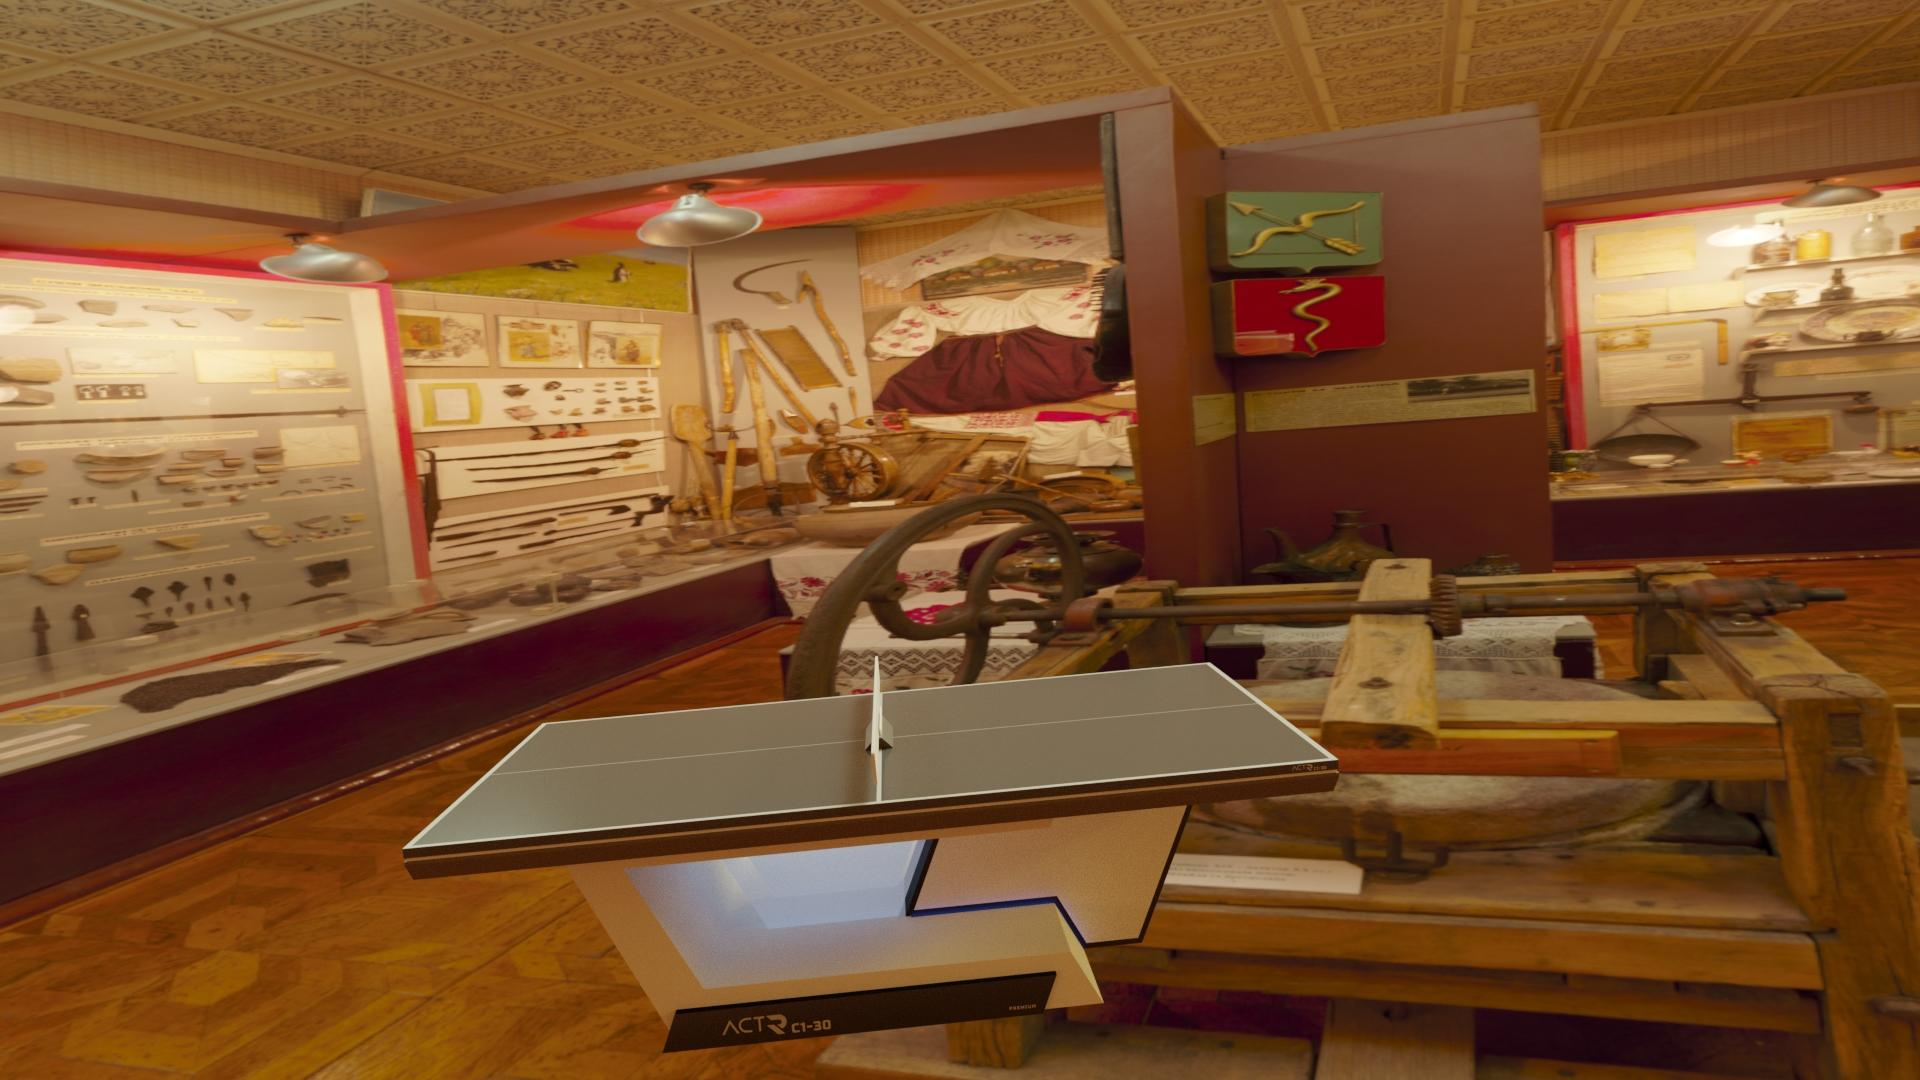table: (411, 663, 1329, 845)
